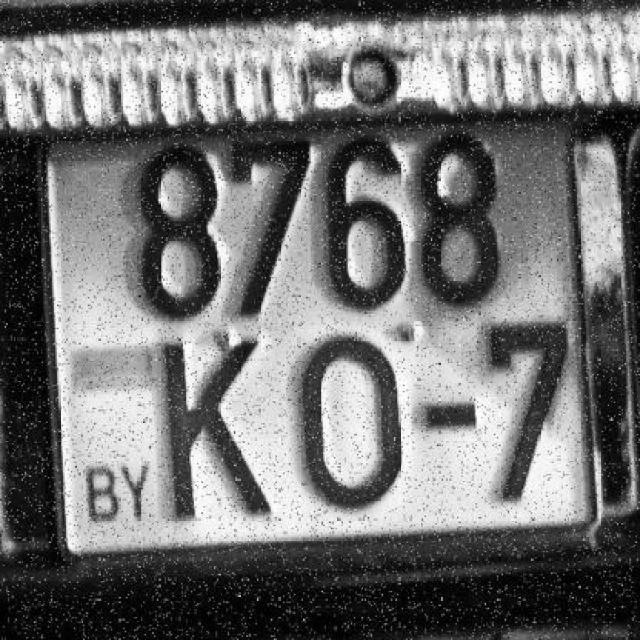licenseplate: (38, 113, 633, 576)
